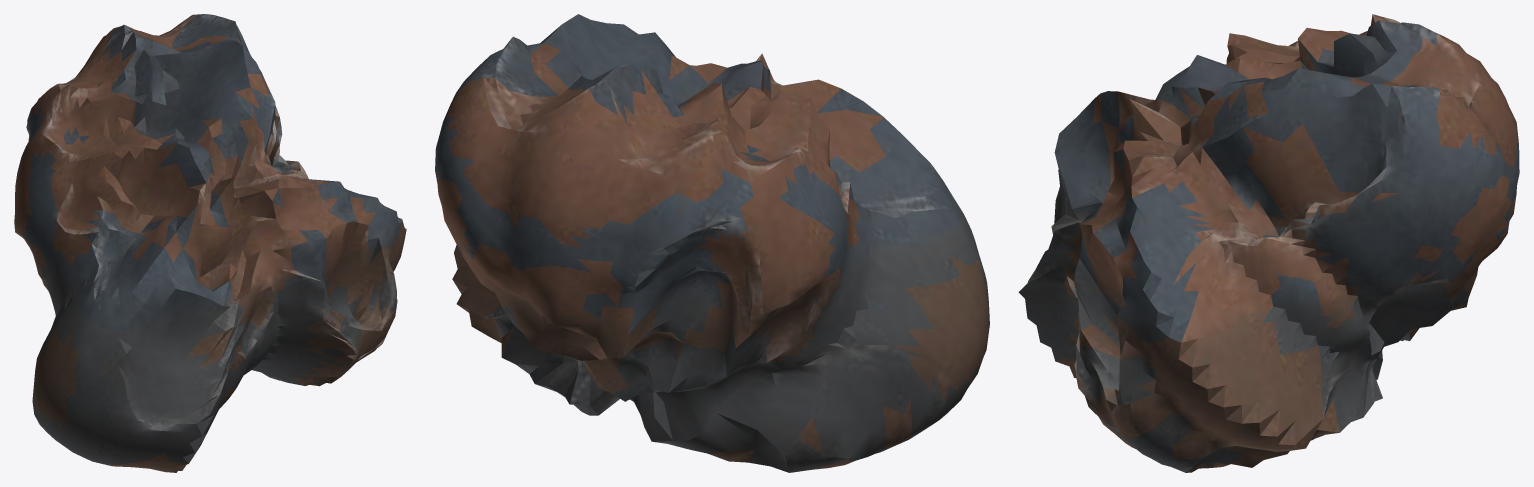
File: huge-metallic-asteroid.glb
3 renders of one model, left to right at view 1: azimuth 30°, elevation 25°; view 2: azimuth 150°, elevation 25°; view 3: azimuth 270°, elevation 25°, orthographic. The views are drawn at different scales.
Visible parts, largest first — view 1: body; view 2: body; view 3: body.
Part boxes in pixels (<box>): body: <box>14,14,406,472</box>; body: <box>435,14,989,472</box>; body: <box>1018,14,1519,472</box>.
Size of the model in its own units: 10.69 by 9.24 by 9.76.
Materials: 1 (1 with a texture image).
